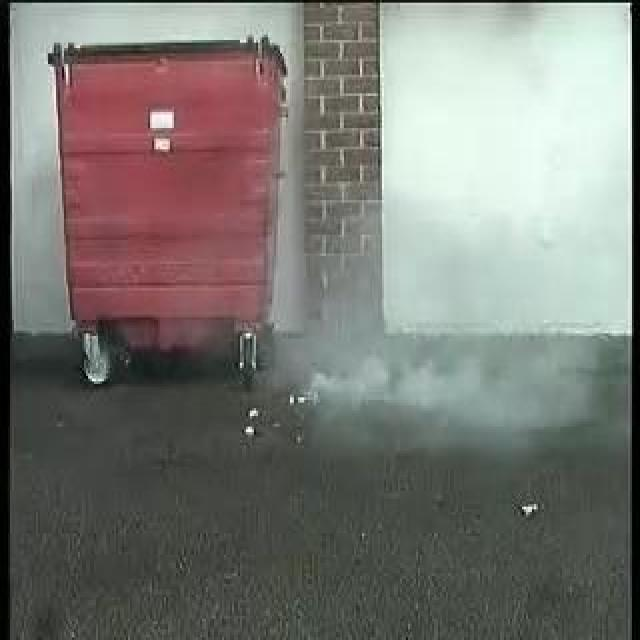Smoke: (272, 239, 436, 436)
